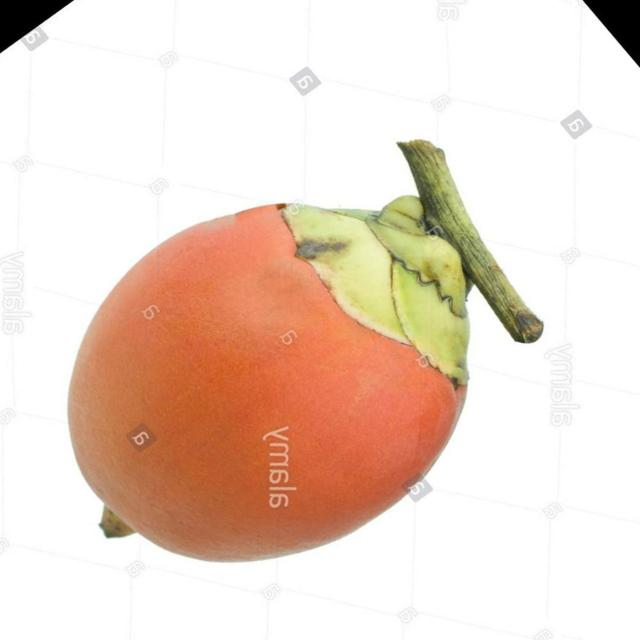good: (65, 142, 543, 565)
